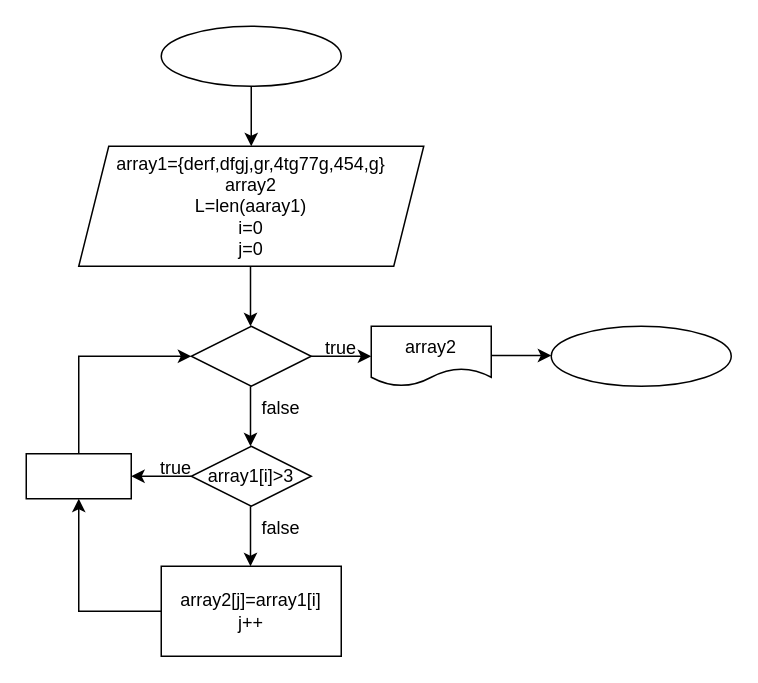
Image size: 758x683. Some labels were removed from this diagram. The centre of each missing label's shape, as x and y in pixels:
i++: the point at 78,475
i>L: the point at 250,355
